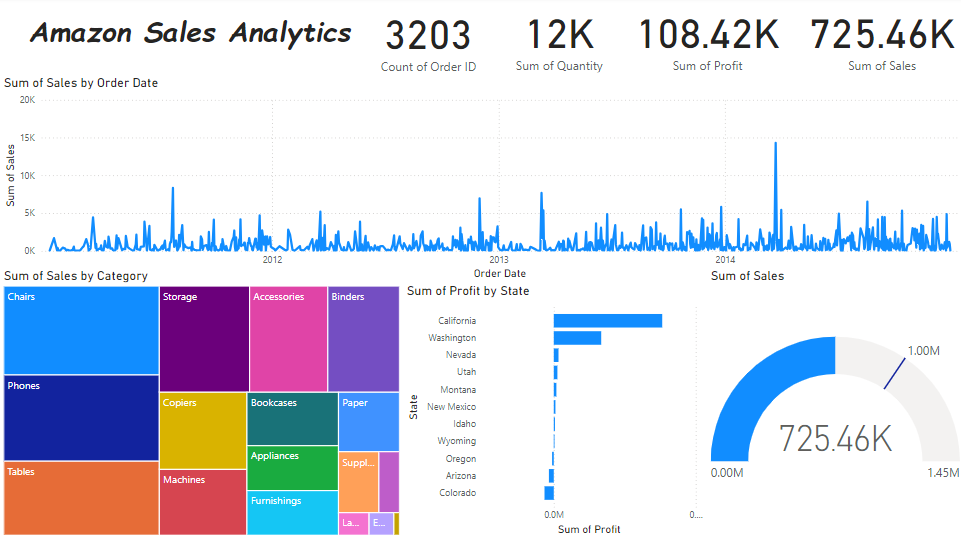

The page's visual inventory and layout, read from the dashboard file:
{"tool":"powerbi","page":{"name":"Page 1","canvas":[1280,720],"ordinal":0},"visuals":[{"type":"card","fields":{"Values":["Sum(Walmart.Sales)"]},"box":[1062.4,0,218,103.9],"z":0},{"type":"card","fields":{"Values":["Sum(Walmart.Profit)"]},"box":[816.6,0,245.9,105.4],"z":1000},{"type":"card","fields":{"Values":["Sum(Walmart.Quantity)"]},"box":[639.5,0,207.8,105.4],"z":2000},{"type":"card","fields":{"Values":["CountNonNull(Walmart.Order ID)"]},"box":[455.1,0,226.8,108.3],"z":3000},{"type":"lineChart","fields":{"Category":["Walmart.Order Date"],"Y":["Sum(Walmart.Sales)"]},"box":[0,103.9,1280.5,276.6],"z":4000},{"type":"barChart","fields":{"Category":["Walmart.State"],"Y":["Sum(Walmart.Profit)"]},"box":[535.6,380.5,403.9,339.5],"z":5000},{"type":"gauge","fields":{"Y":["Sum(Walmart.Sales)"]},"box":[939.5,360,341,360],"z":6000},{"type":"treemap","fields":{"Group":["Walmart.Category"],"Values":["Sum(Walmart.Sales)"]},"box":[0,360,535.6,360],"z":7000},{"type":"textbox","box":[0,13.2,503.4,82],"z":8000}]}

Visuals, with their boxes in screenshot pixels (x1, y1, x2, y2), scaled from the page's 1280x720 canvas onto the 961x535 screenshot:
card - Sum(Walmart.Sales): box=[798, 0, 960, 77]
card - Sum(Walmart.Profit): box=[613, 0, 798, 78]
card - Sum(Walmart.Quantity): box=[480, 0, 636, 78]
card - CountNonNull(Walmart.Order ID): box=[342, 0, 512, 80]
lineChart - Walmart.Order Date x Sum(Walmart.Sales): box=[0, 77, 960, 283]
barChart - Walmart.State x Sum(Walmart.Profit): box=[402, 283, 705, 534]
gauge - Sum(Walmart.Sales): box=[705, 268, 960, 534]
treemap - Walmart.Category x Sum(Walmart.Sales): box=[0, 268, 402, 534]
textbox: box=[0, 10, 378, 71]
